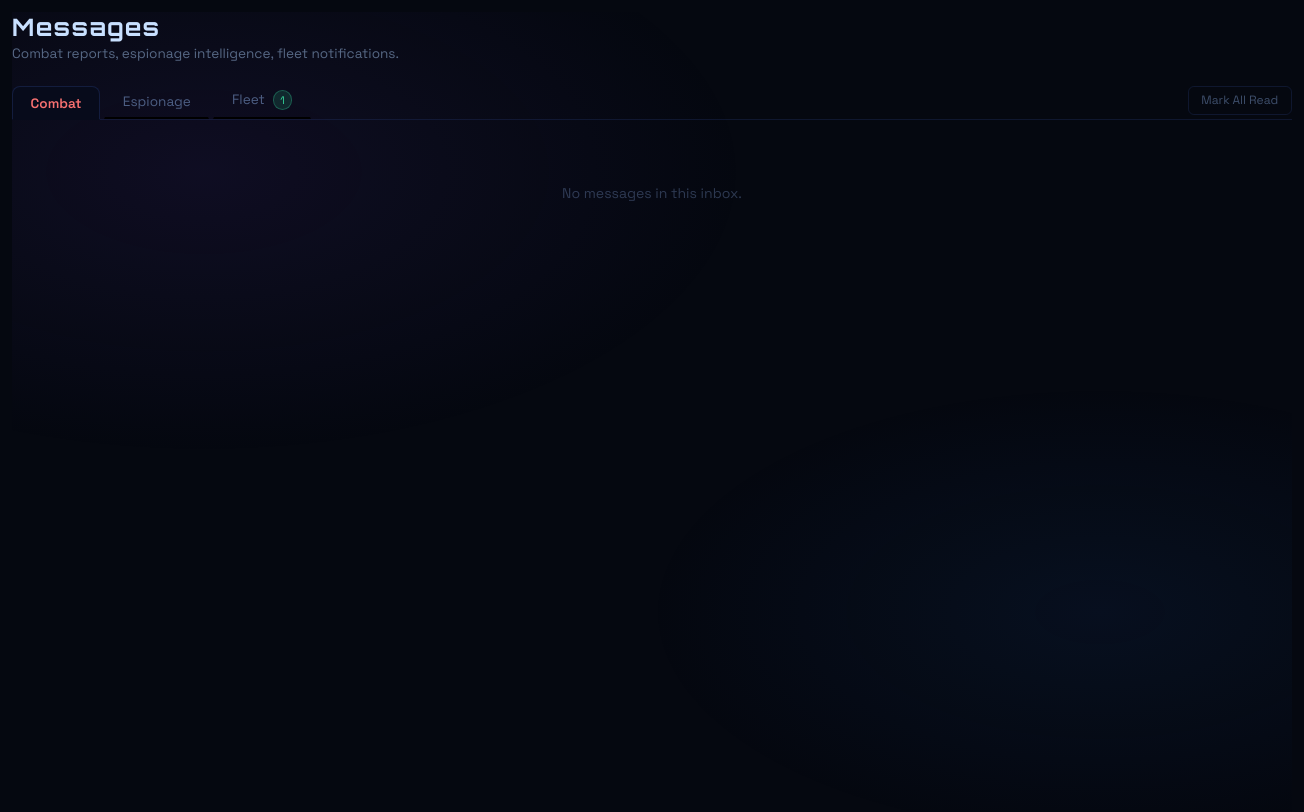
it: MessagesPanel › fleet notification failure reasons › shows "storage was full" hint when failureReason is storage_full
Click the button "Fleet 1".
click(262, 100)  # box [213,82,311,119]
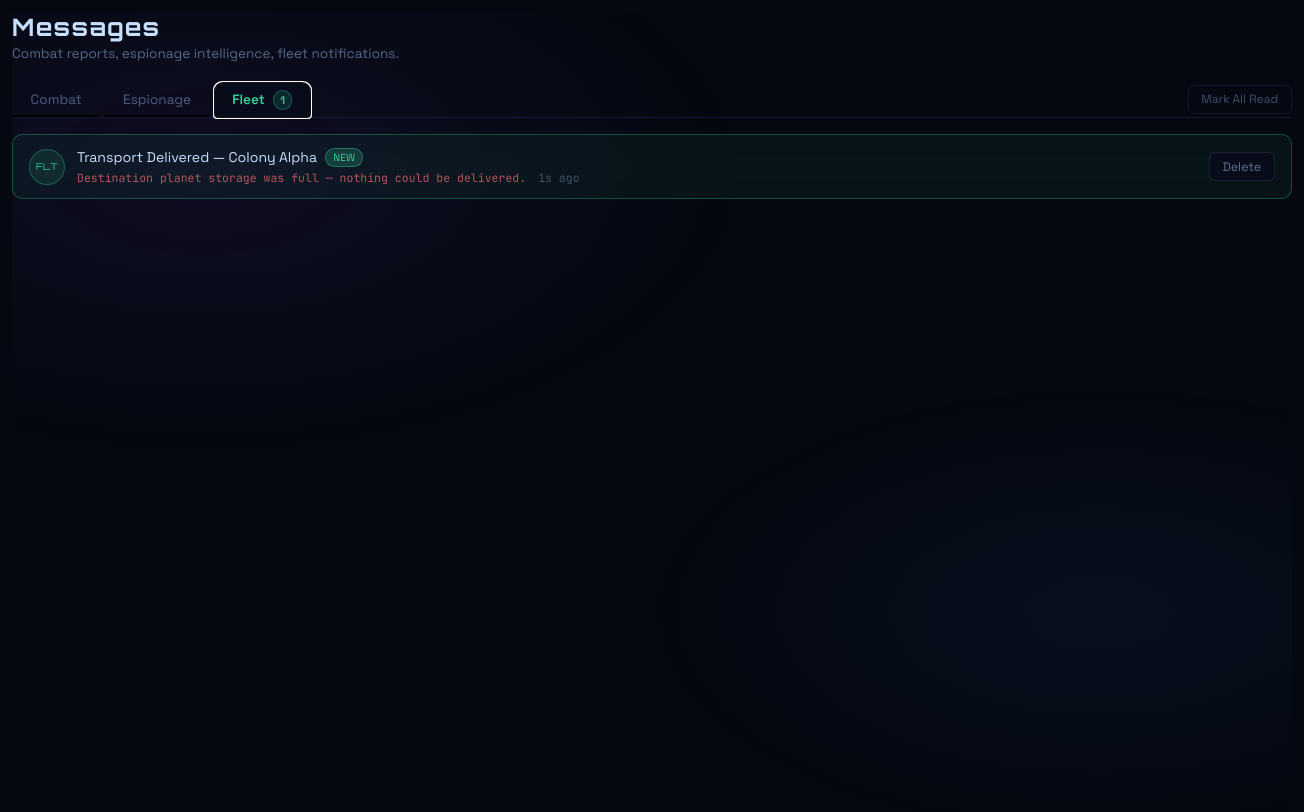
Expected: the text "storage was full" is shown, [77,170,526,185]
